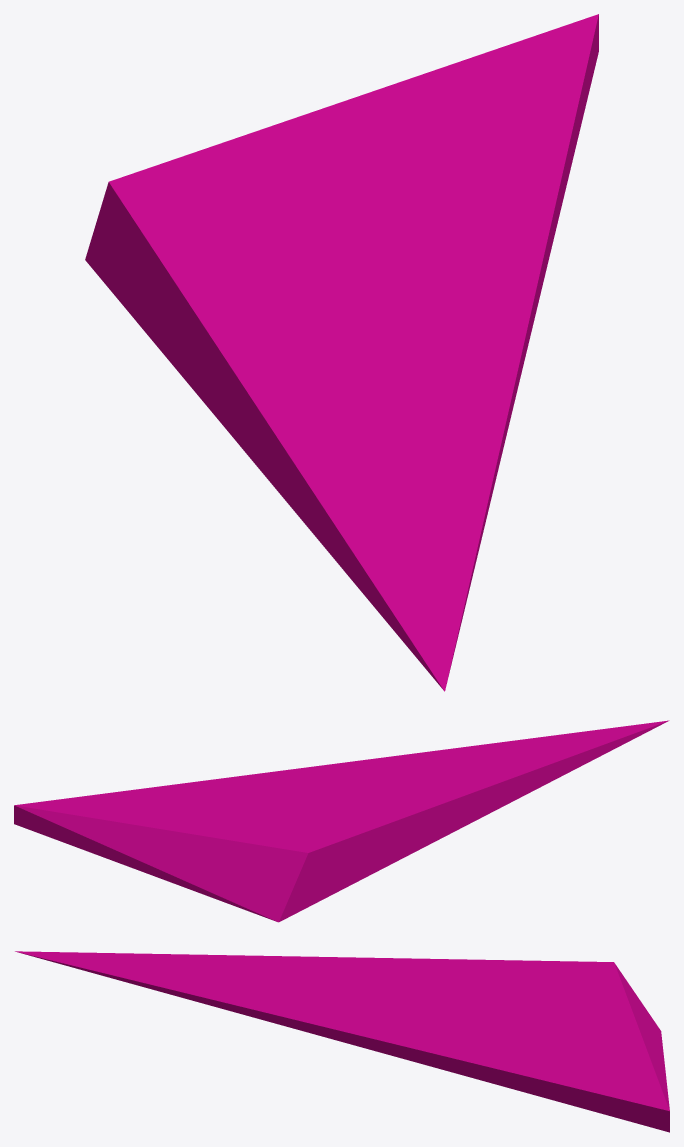
File: coffee_convex_piece_024.obj
The picture shows the model from 3 angles, top to bottom: view 1: azimuth 30°, elevation 25°; view 2: azimuth 150°, elevation 25°; view 3: azimuth 270°, elevation 25°; orthographic projection. The views are drawn at different scales.
Size of the model in its own units: 0.000163 by 2.4e-05 by 0.000223.
